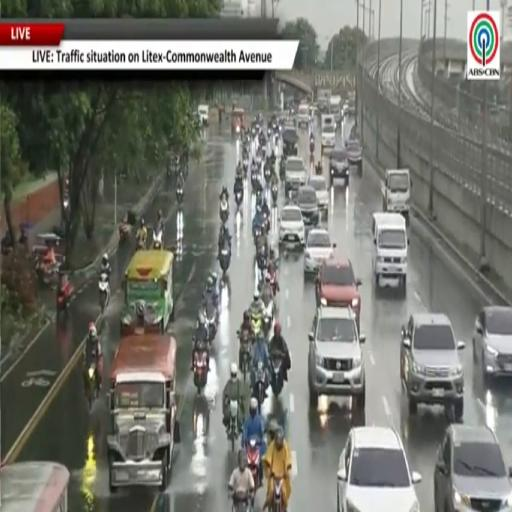bus: (0, 461, 70, 511)
car: (337, 426, 421, 511), (400, 313, 465, 422), (434, 425, 511, 511), (308, 306, 365, 415), (316, 255, 361, 328), (473, 306, 511, 380), (304, 229, 335, 276), (279, 204, 305, 247), (296, 186, 319, 227), (308, 175, 329, 216), (285, 156, 306, 197), (329, 148, 349, 186), (346, 138, 362, 173), (297, 102, 309, 128), (198, 104, 209, 125)
jeepney: (107, 334, 179, 491), (121, 250, 174, 334), (231, 108, 244, 136)
motorcycle: (246, 438, 261, 489), (193, 349, 208, 393), (239, 331, 251, 381), (36, 258, 59, 284), (86, 362, 98, 410), (204, 299, 217, 343), (228, 400, 239, 451), (255, 361, 265, 413), (271, 355, 283, 396), (271, 477, 284, 511), (99, 272, 109, 314), (57, 285, 71, 314), (219, 245, 230, 281), (232, 491, 251, 511), (119, 221, 132, 243), (262, 313, 272, 340), (257, 250, 267, 277), (251, 313, 262, 337), (219, 201, 229, 224), (270, 269, 277, 296), (153, 231, 163, 249), (262, 210, 270, 232), (234, 190, 243, 209), (271, 185, 278, 207), (251, 170, 259, 189), (279, 158, 285, 182), (264, 165, 271, 185), (176, 188, 183, 207), (254, 227, 261, 245), (243, 159, 249, 179), (136, 237, 145, 250), (256, 188, 262, 205), (256, 153, 261, 170), (261, 141, 266, 158), (274, 132, 279, 147), (310, 152, 314, 167), (268, 127, 271, 139)
truck: (382, 169, 411, 222), (330, 95, 342, 126), (316, 89, 331, 113), (347, 91, 356, 116)
